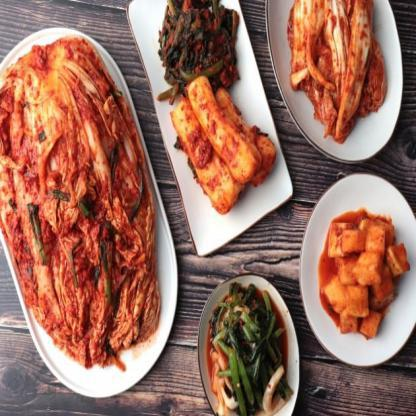kimchi: (6, 16, 168, 372), (286, 0, 392, 139)
